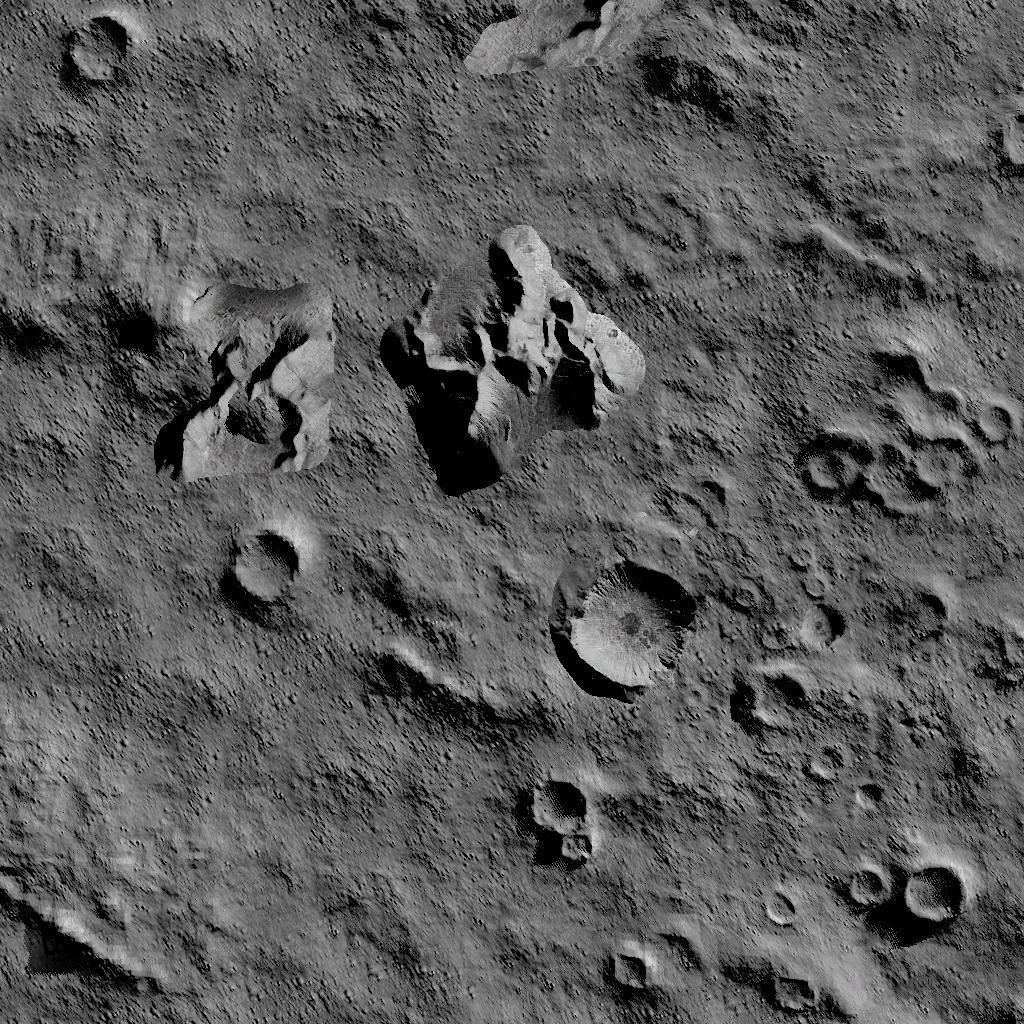Boulders: (0, 210, 336, 480), (384, 225, 646, 493), (321, 0, 818, 130), (0, 855, 171, 1000), (368, 638, 543, 740)
Crater: (798, 350, 1012, 518), (561, 560, 700, 695), (518, 770, 603, 873), (838, 860, 966, 928), (226, 528, 308, 606), (63, 15, 138, 93), (744, 668, 810, 732), (604, 945, 662, 998), (768, 968, 818, 1012), (996, 102, 1024, 180)
Plan surface: (0, 490, 216, 843), (231, 752, 508, 1024), (150, 0, 310, 200)
